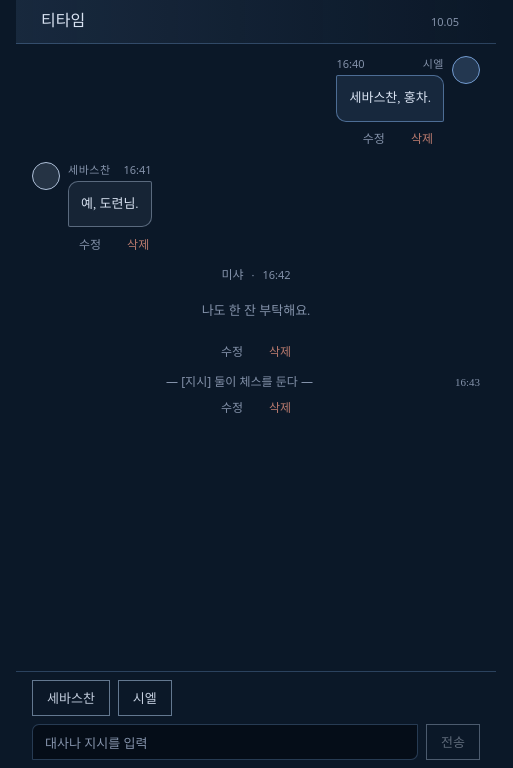
Test: 생성 중 임시 말풍선·잠금 (R-CHAT-005 · R-CHAT-002 · R-CHAT-004) › TC-CH-069: (S3e 개정) 생성 중 — 메시지 말풍선 4개는 버튼 줄이 있고 disabled, 임시 li 만 버튼 줄 없음
The image size is (513, 768).
expect the element named "대화 기록" is shown: met, box [32,56,480,423]
Click the button with aria-label "세바스찬 대사 생성" at (71, 698), box [32,680,110,716]
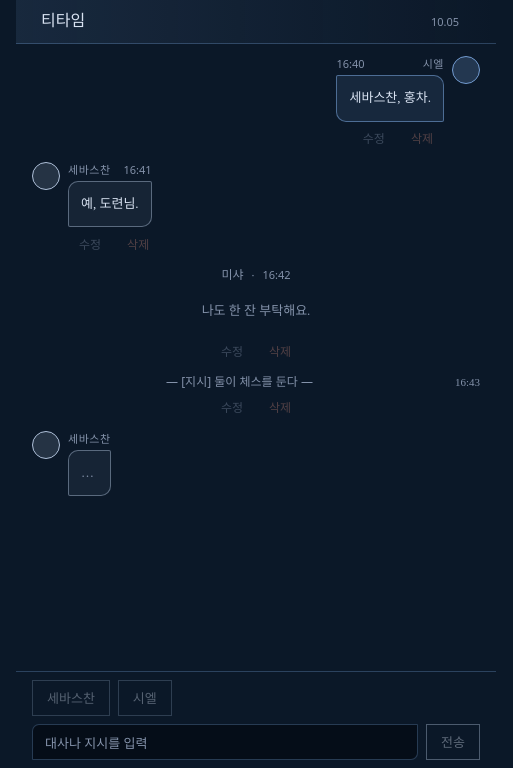
expect the number of list items is 5: met, box [336,56,480,154]; [32,162,160,259]; [202,266,310,366]; [166,373,480,423]; [32,431,111,496]
expect the button "수정" below "16:40" is disabled: met, box [352,126,396,154]
expect the button "삭제" below "16:40" is disabled: met, box [400,126,444,154]
